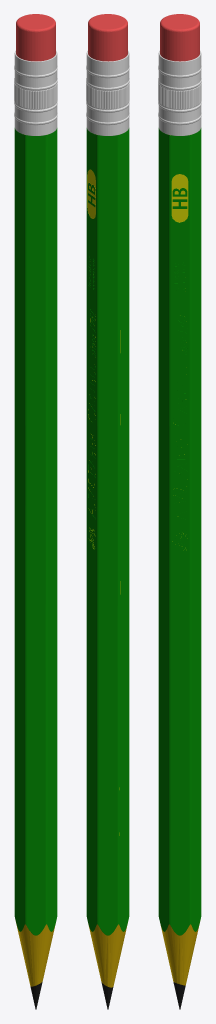
The model's file is Pencil.dae.
3 renders of one model, left to right at view 1: azimuth 30°, elevation 25°; view 2: azimuth 210°, elevation 25°; view 3: azimuth 270°, elevation 25°, orthographic.
Visible parts, largest first — view 1: Pencil-Assy - Pencil-1, Pencil-Assy - Ferrule-1, Pencil-Assy - Eraser-1; view 2: Pencil-Assy - Pencil-1, Pencil-Assy - Ferrule-1, Pencil-Assy - Eraser-1; view 3: Pencil-Assy - Pencil-1, Pencil-Assy - Ferrule-1, Pencil-Assy - Eraser-1.
Boxes of the visible parts, x1,y1,x2,y2 form: Pencil-Assy - Pencil-1: [14, 128, 57, 1009]; Pencil-Assy - Ferrule-1: [14, 50, 57, 135]; Pencil-Assy - Eraser-1: [16, 14, 55, 61]; Pencil-Assy - Pencil-1: [86, 128, 129, 1009]; Pencil-Assy - Ferrule-1: [86, 50, 129, 135]; Pencil-Assy - Eraser-1: [88, 14, 127, 61]; Pencil-Assy - Pencil-1: [158, 128, 201, 1009]; Pencil-Assy - Ferrule-1: [158, 50, 201, 135]; Pencil-Assy - Eraser-1: [160, 14, 199, 61].
Bounding box in the file's own units: 0.00757 × 0.00757 × 0.1891.
